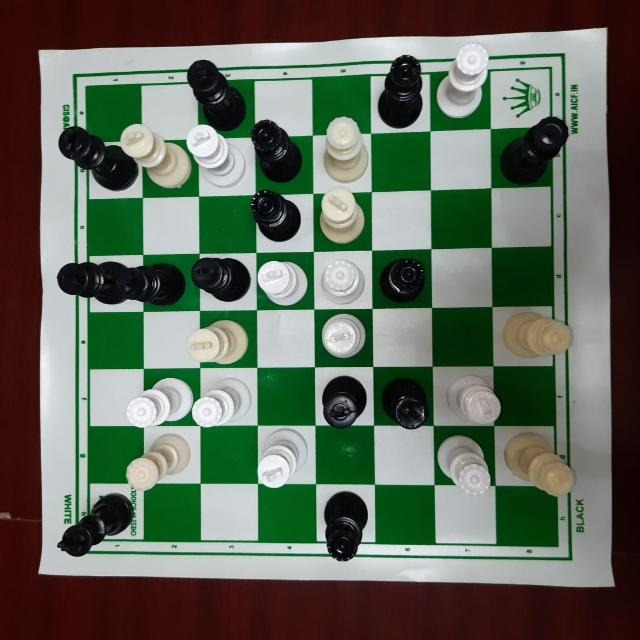black-king: (53, 123, 136, 195), (56, 488, 132, 560), (186, 56, 250, 131), (106, 252, 191, 308), (56, 260, 130, 315), (316, 371, 378, 433), (379, 369, 433, 433), (188, 255, 250, 302)
black-queen: (501, 110, 571, 186), (321, 485, 371, 566), (248, 116, 309, 181), (378, 48, 426, 130), (247, 180, 305, 238), (376, 249, 432, 307)
white-king: (117, 118, 192, 193), (182, 118, 249, 193), (438, 374, 503, 435), (256, 424, 311, 496), (251, 252, 316, 310), (180, 315, 249, 369), (312, 310, 376, 364), (310, 188, 371, 244)
white-queen: (502, 430, 579, 501), (123, 435, 200, 499), (438, 41, 493, 123), (124, 372, 194, 435), (433, 431, 498, 498), (317, 110, 372, 188), (501, 312, 575, 366), (314, 248, 376, 309), (192, 375, 250, 433)
